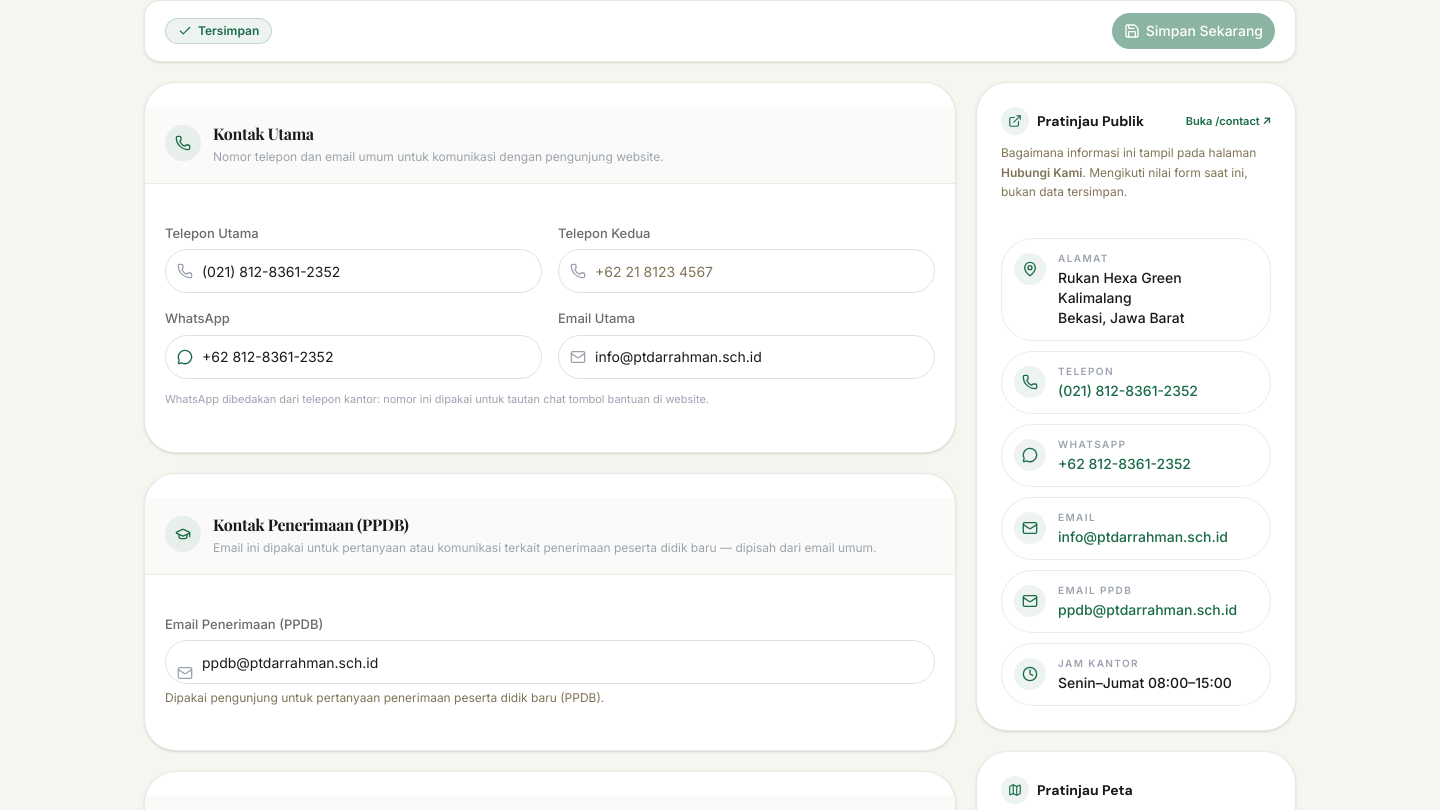
Test: ContactEditor — status pill & manual save › manual save (klik tombol) → status berubah ke "Tersimpan"
The image size is (1440, 810).
Replace the text in the field labelled "Telepon Utama" with "(021) 555-9090" at {"x": 354, "y": 271}, box [165,249,542,293]
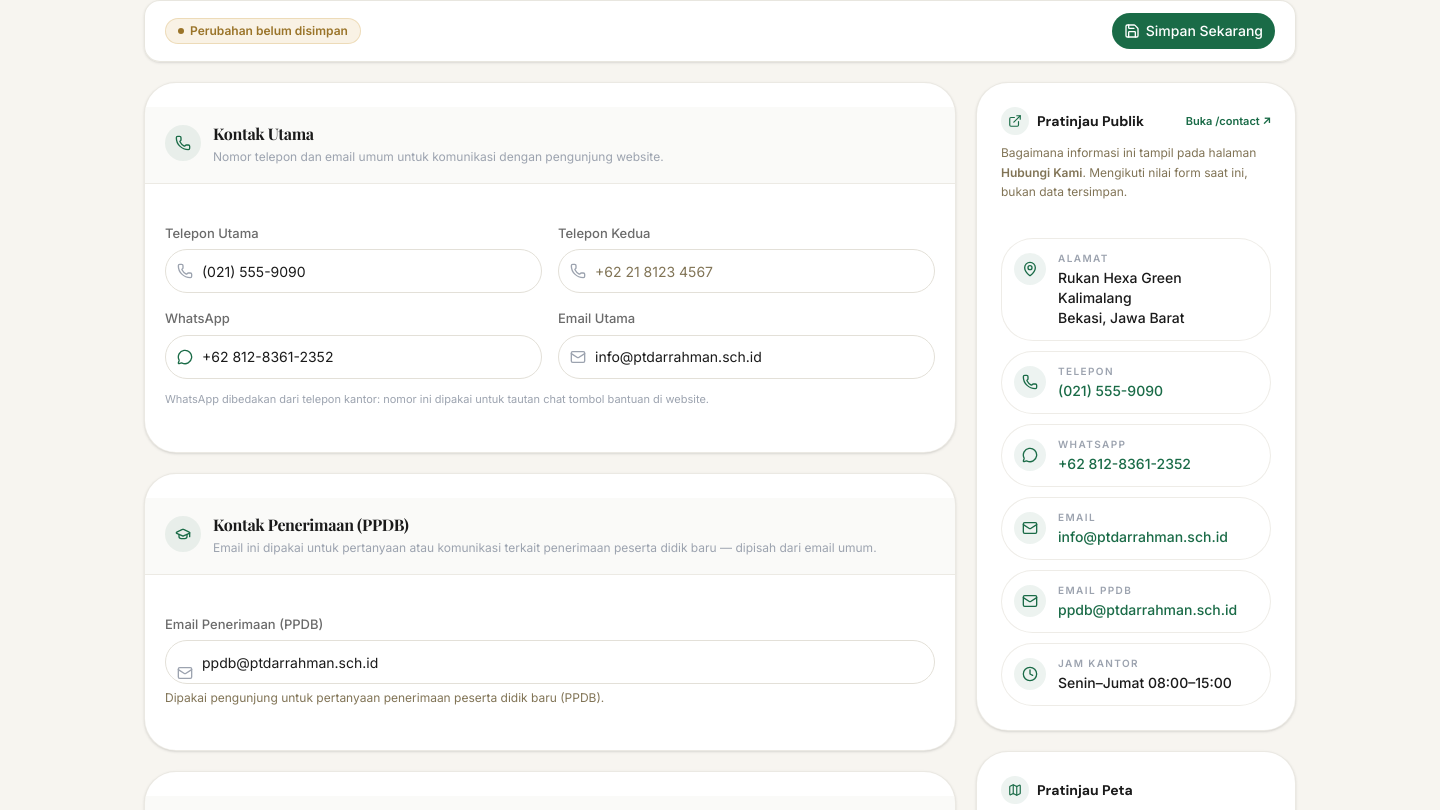
Click the button "Simpan Sekarang" at {"x": 1193, "y": 31}, box [1112,13,1275,49]
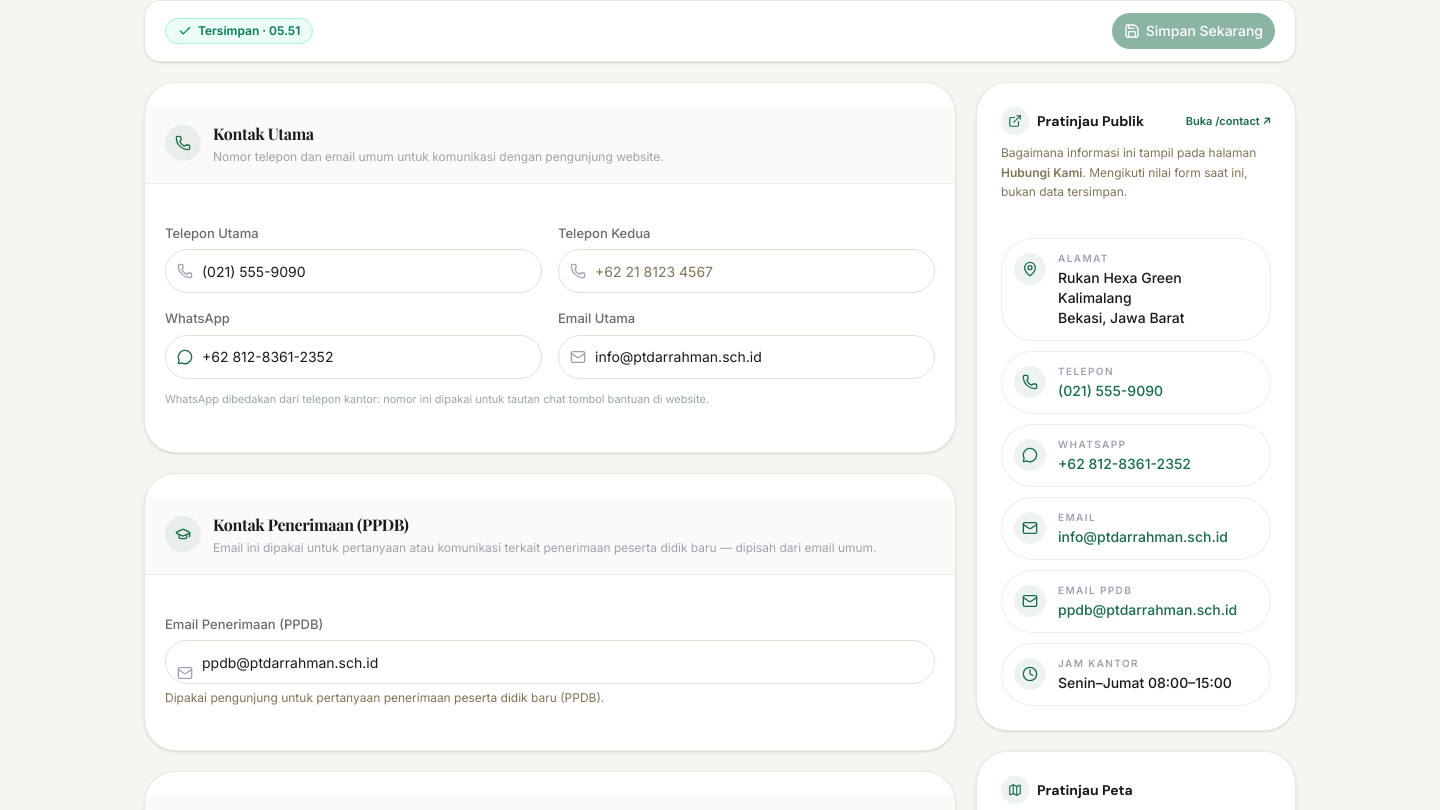
Now the text "Tersimpan · 05.51" is shown, box [165,18,313,44]
